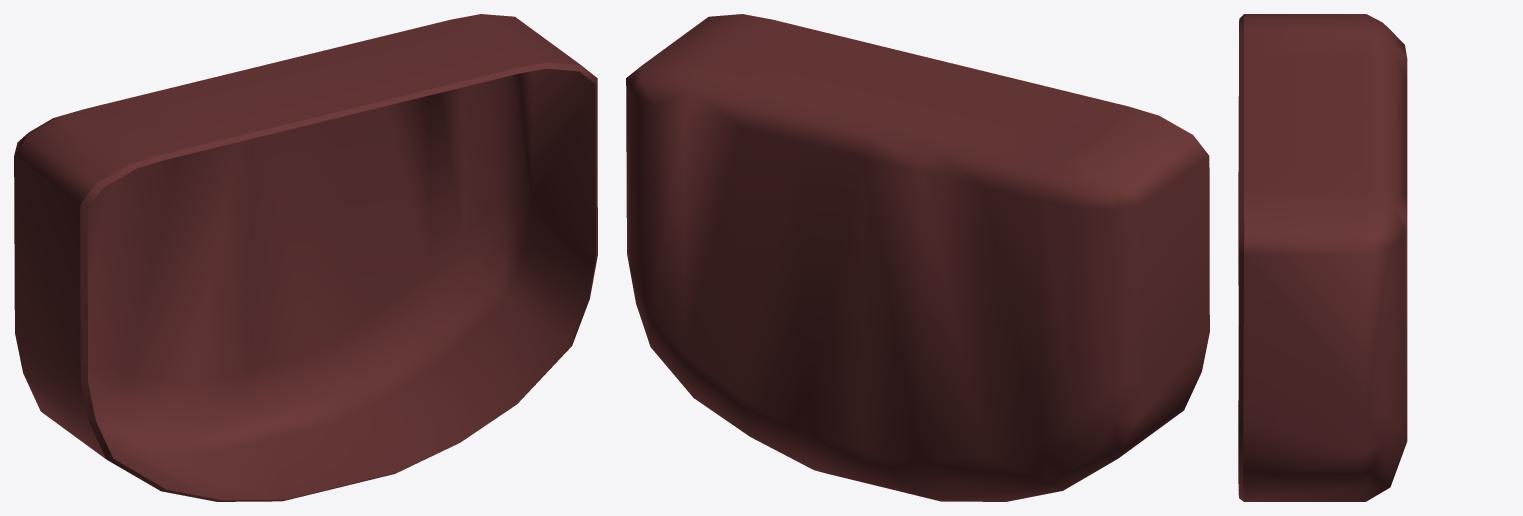
File: MeshBin_17_0_GeomSubset_1.obj
3 renders of one model, left to right at view 1: azimuth 30°, elevation 25°; view 2: azimuth 150°, elevation 25°; view 3: azimuth 270°, elevation 25°, orthographic. The views are drawn at different scales.
Parts seen in each view (by area): view 1: MeshBin_17_0_GeomSubset_1; view 2: MeshBin_17_0_GeomSubset_1; view 3: MeshBin_17_0_GeomSubset_1.
Boxes of the visible parts, bbox=[...] form: MeshBin_17_0_GeomSubset_1: bbox=[14, 14, 597, 501]; MeshBin_17_0_GeomSubset_1: bbox=[626, 14, 1209, 501]; MeshBin_17_0_GeomSubset_1: bbox=[1238, 14, 1407, 501].
Size of the model in its own units: 0.544 by 0.378 by 0.2667.
